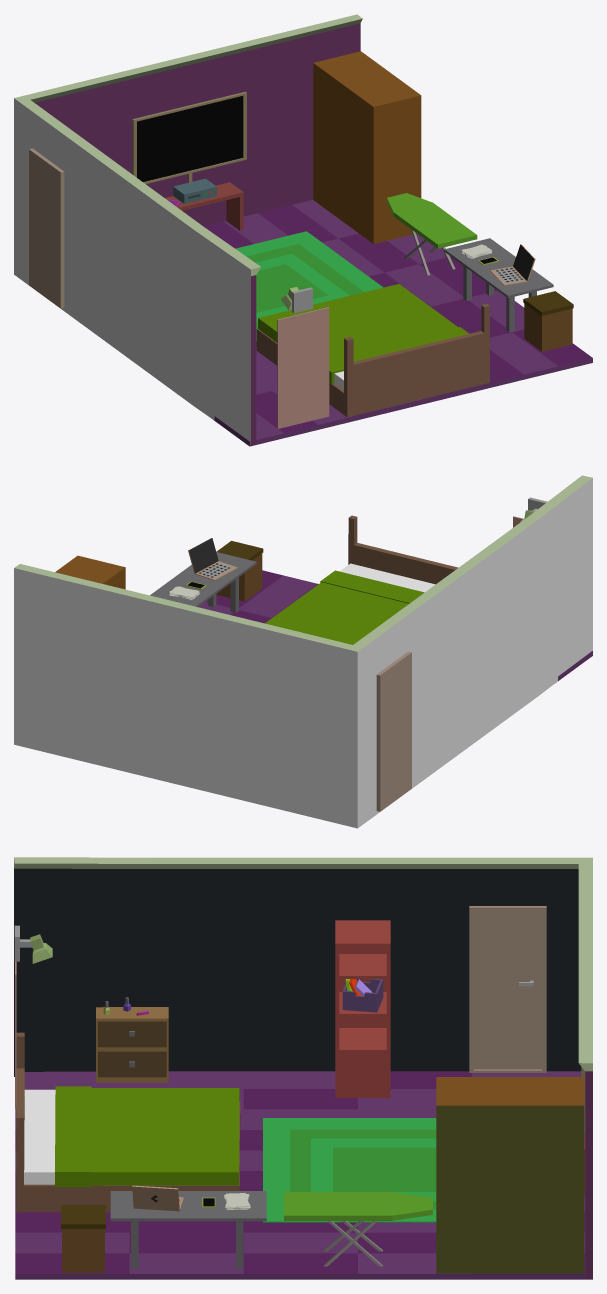
Rendered from ParentRoom.fbx.
The picture shows the model from 3 angles, top to bottom: view 1: azimuth 30°, elevation 25°; view 2: azimuth 150°, elevation 25°; view 3: azimuth 270°, elevation 25°; orthographic projection. The views are drawn at different scales.
Parts seen in each view (by area): view 1: Куб.041, Куб.042, Cube.001, Куб.044, Куб, Куб.046, Куб.002, Куб.011, Cube.002, Куб.003, Куб.025, Куб.017 (+2 smaller); view 2: Куб.041, Куб.046, Cube.002, Куб.042, Куб.044, Куб.017, Куб.025, Cube.001, Куб.045, Куб.027; view 3: Куб.041, Куб.042, Cube.001, Куб.046, Куб.002, Cube.002, Куб.028, Куб.044, Куб.003, Куб.017, Куб.045, Куб.025 (+6 smaller).
Boxes of the visible parts, x1,y1,x2,y2 form: Куб.041: [14, 14, 362, 445]; Куб.042: [203, 200, 592, 446]; Cube.001: [313, 51, 421, 243]; Куб.044: [256, 303, 489, 417]; Куб: [132, 91, 246, 183]; Куб.046: [258, 284, 468, 383]; Куб.002: [235, 231, 383, 341]; Куб.011: [277, 307, 329, 428]; Cube.002: [29, 148, 64, 308]; Куб.003: [387, 193, 477, 248]; Куб.025: [523, 291, 573, 351]; Куб.017: [444, 238, 553, 297]; Куб.041: [14, 475, 592, 828]; Куб.046: [265, 570, 424, 644]; Cube.002: [376, 651, 411, 811]; Куб.042: [198, 570, 592, 682]; Куб.044: [348, 515, 458, 584]; Куб.017: [150, 552, 256, 606]; Куб.025: [216, 541, 263, 601]; Cube.001: [55, 555, 125, 589]; Куб.045: [340, 563, 435, 592]; Куб.027: [188, 538, 218, 573]; Куб.041: [14, 857, 592, 1279]; Куб.042: [15, 1071, 586, 1279]; Cube.001: [436, 1077, 584, 1273]; Куб.046: [55, 1086, 239, 1187]; Куб.002: [263, 1118, 436, 1222]; Cube.002: [469, 906, 546, 1072]; Куб.028: [335, 920, 390, 1097]; Куб.044: [16, 1032, 240, 1212]; Куб.003: [284, 1192, 432, 1220]; Куб.017: [110, 1191, 266, 1221]; Куб.045: [24, 1089, 55, 1184]; Куб.025: [61, 1205, 105, 1272].
Bounding box in the file's own units: 1356 × 662 × 1595.
